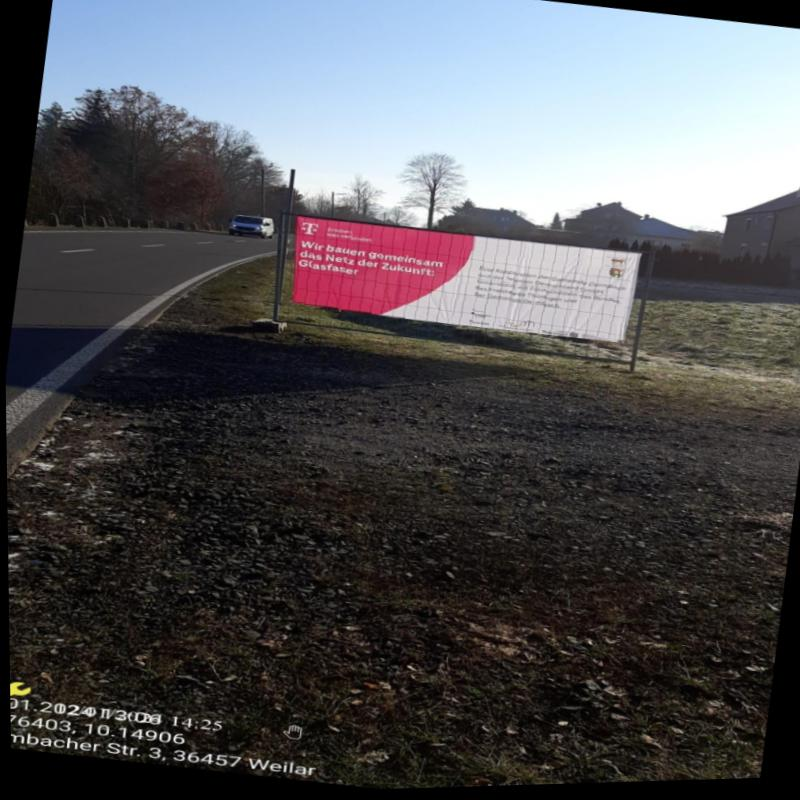Banner: (290, 211, 635, 354)
